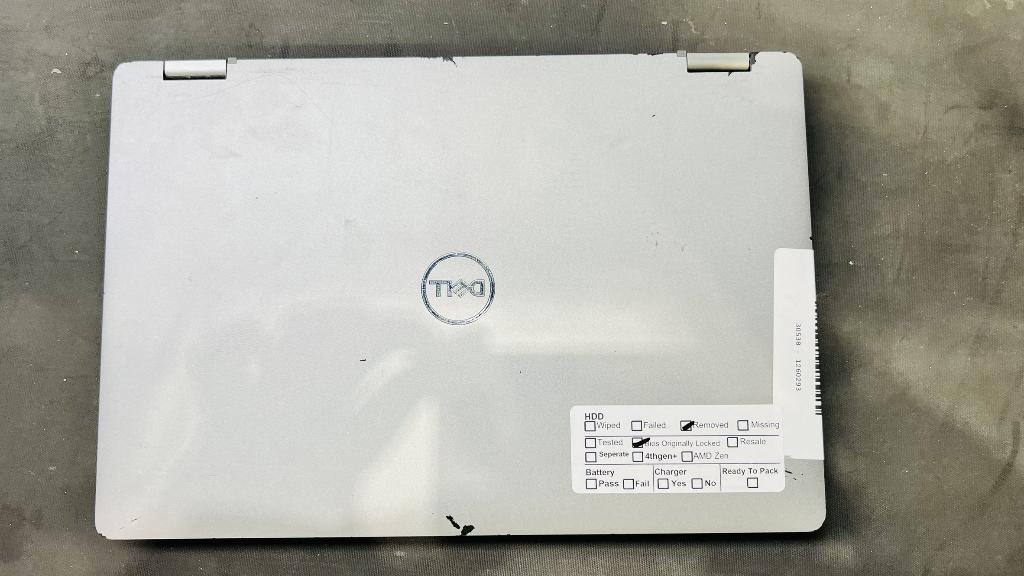scratch: (174, 74, 339, 129), (446, 516, 474, 536), (418, 56, 458, 67), (786, 468, 798, 480), (750, 52, 760, 66), (130, 516, 142, 522), (647, 53, 664, 56), (728, 72, 735, 76), (119, 526, 126, 530), (359, 359, 368, 362)
stain: (198, 128, 254, 160), (646, 230, 686, 254), (710, 94, 764, 104), (344, 218, 360, 234)
